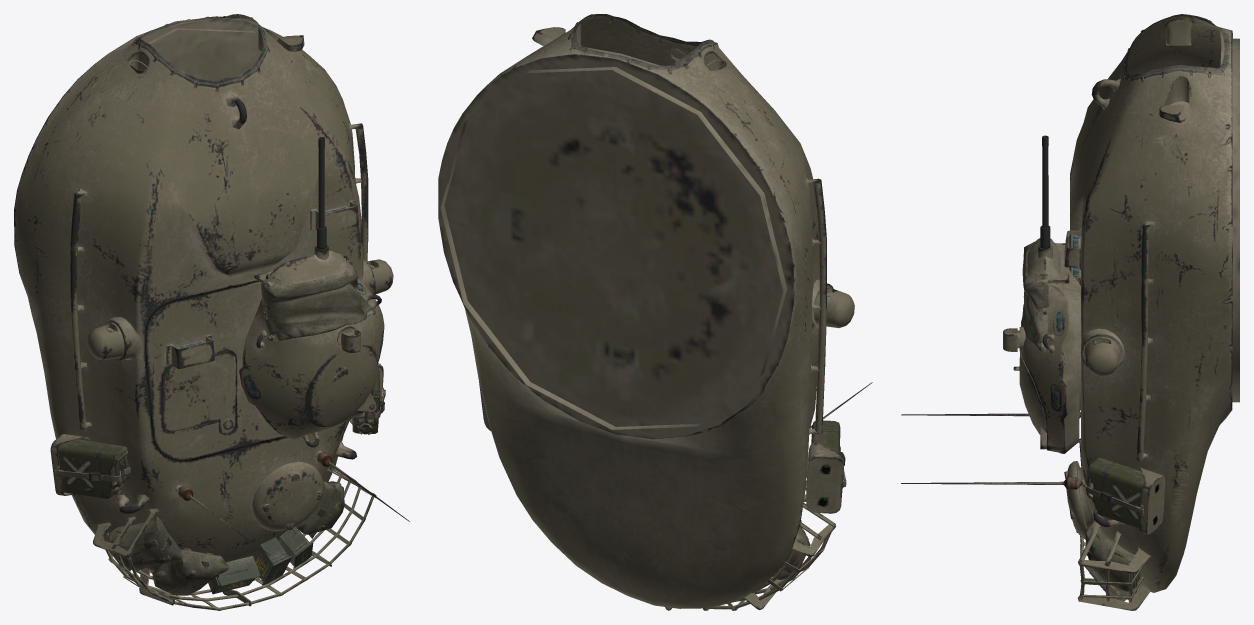
File: Turret_01.glb
3 renders of one model, left to right at view 1: azimuth 30°, elevation 25°; view 2: azimuth 150°, elevation 25°; view 3: azimuth 270°, elevation 25°, orthographic. The views are drawn at different scales.
Parts seen in each view (by area): view 1: set_0_group_0; view 2: set_0_group_0; view 3: set_0_group_0.
Boxes of the visible parts, x1,y1,x2,y2 form: set_0_group_0: (14,14,409,610); set_0_group_0: (438,14,872,610); set_0_group_0: (901,14,1239,610).
Bounding box in the file's own units: 2.55 × 3.99 × 2.22.
Materials: 1 (1 with a texture image).
